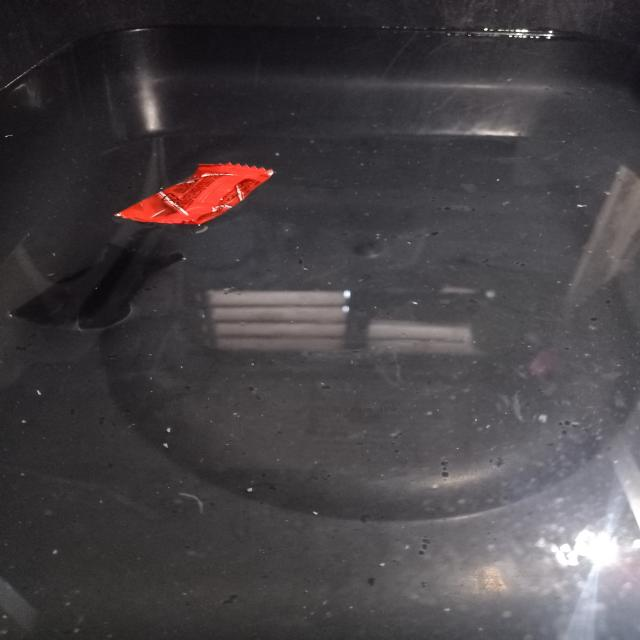Plastic Wrapper: (115, 163, 273, 226)
